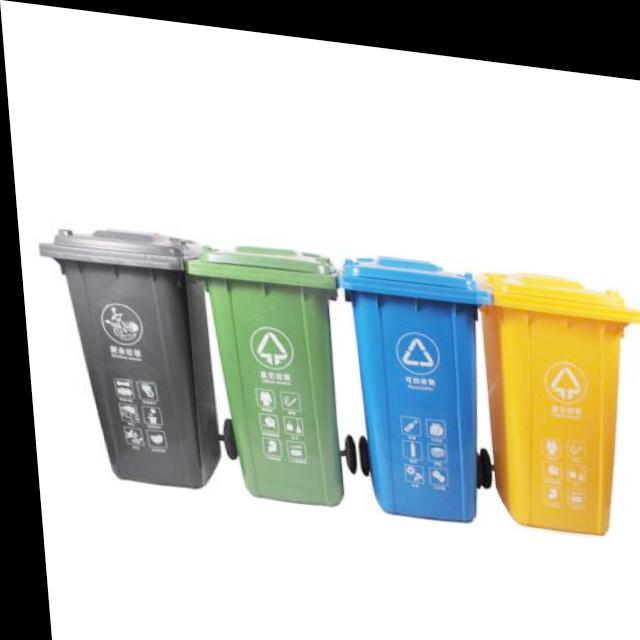garbage_bin: (30, 214, 214, 488), (329, 241, 501, 517), (470, 253, 640, 529), (179, 230, 348, 502)
